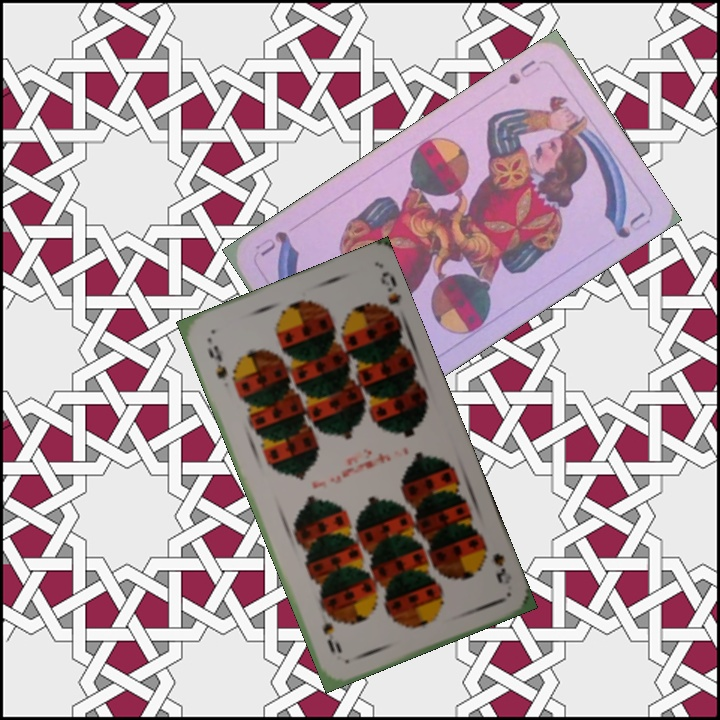S9: (476, 537, 509, 587), (203, 341, 230, 382)
SU: (504, 55, 543, 87)
